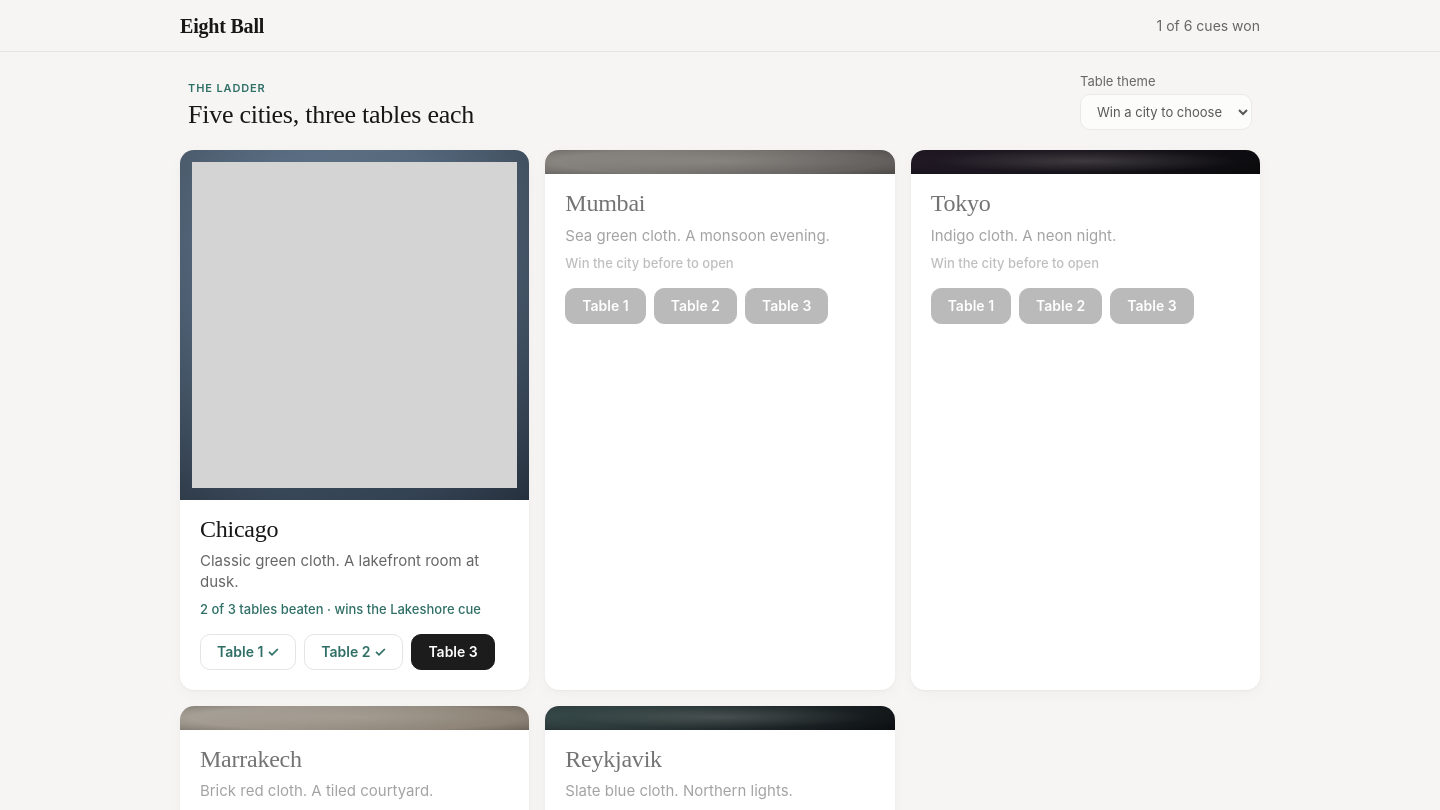
Test: the result › awards the cue and opens the next city on the third table
Click the button with aria-label "Chicago, table 3".
click(453, 652)  # box left=411, top=634, right=495, bottom=670
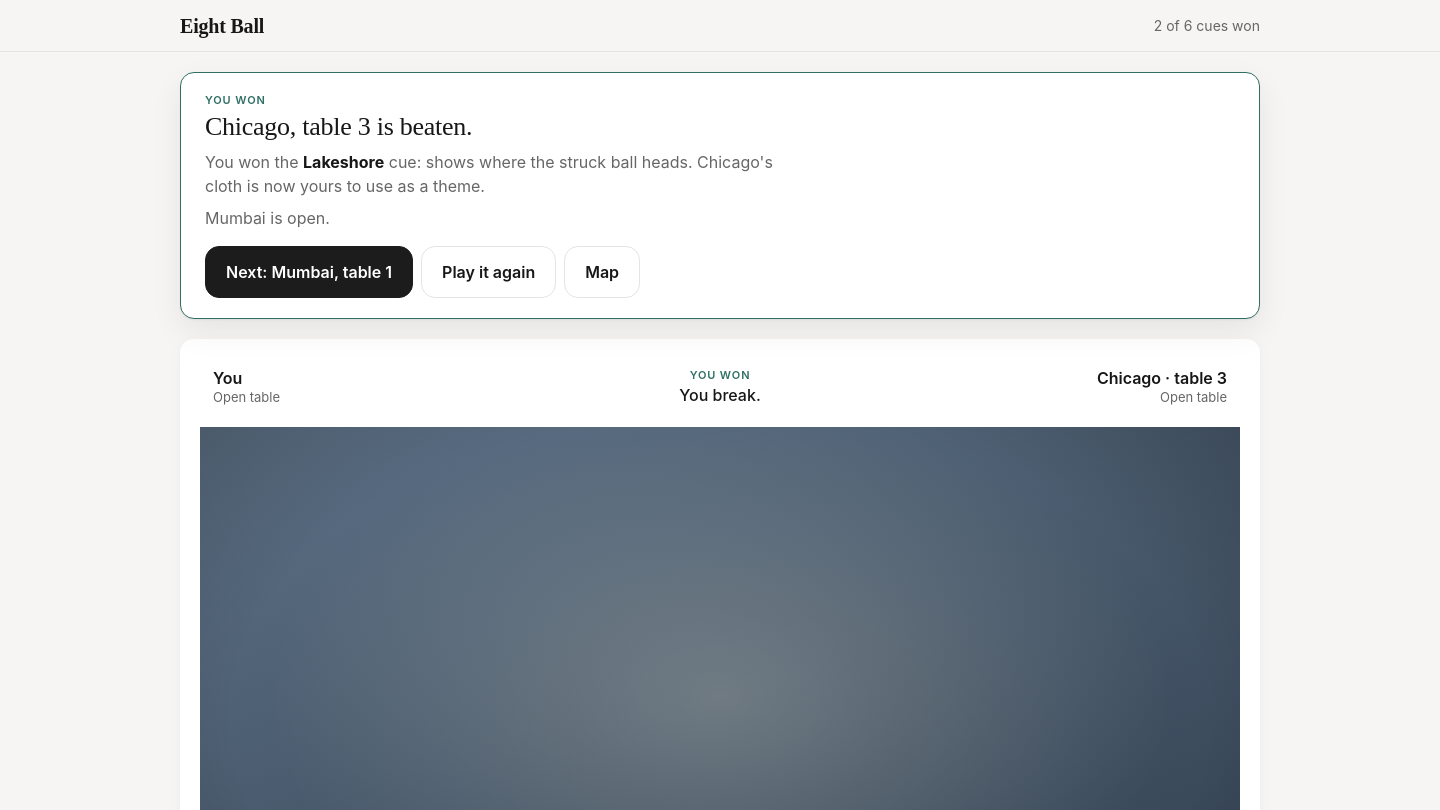
Expected: the text "You won the" shows "You won the Lakeshore cue: shows where the struck ball heads. Chicago's cloth is now yours to use as a theme.", left=205, top=150, right=811, bottom=198
Expected: the text "Mumbai is open." is shown, left=205, top=208, right=330, bottom=228
Expected: the button "Next: Mumbai, table 1" is shown, left=205, top=246, right=413, bottom=298
